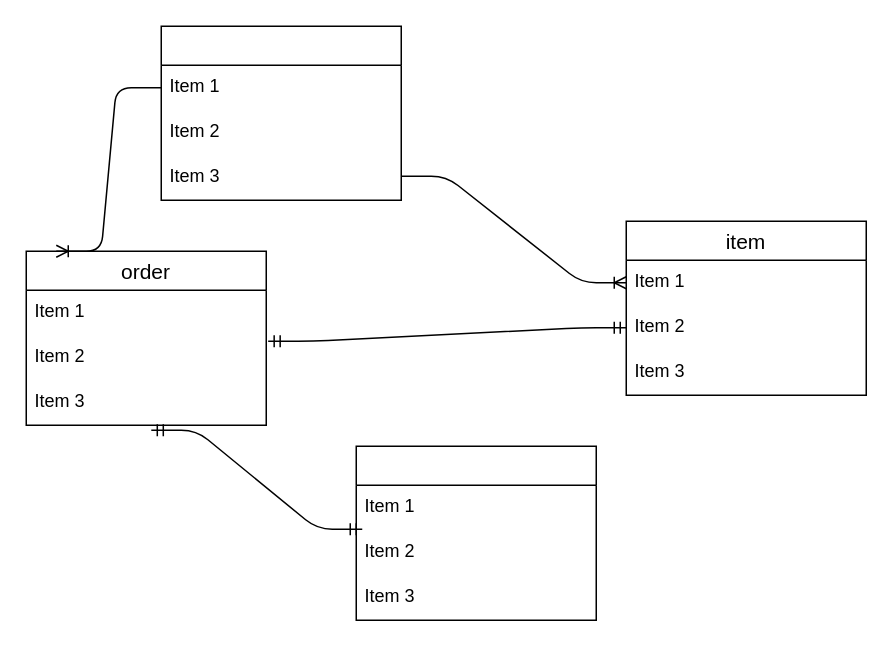
This 893x651 diagram has some shape labels left out. Each missing label, with the box of its shape:
pay_forms: (355, 445, 596, 620)
user: (160, 25, 401, 200)
